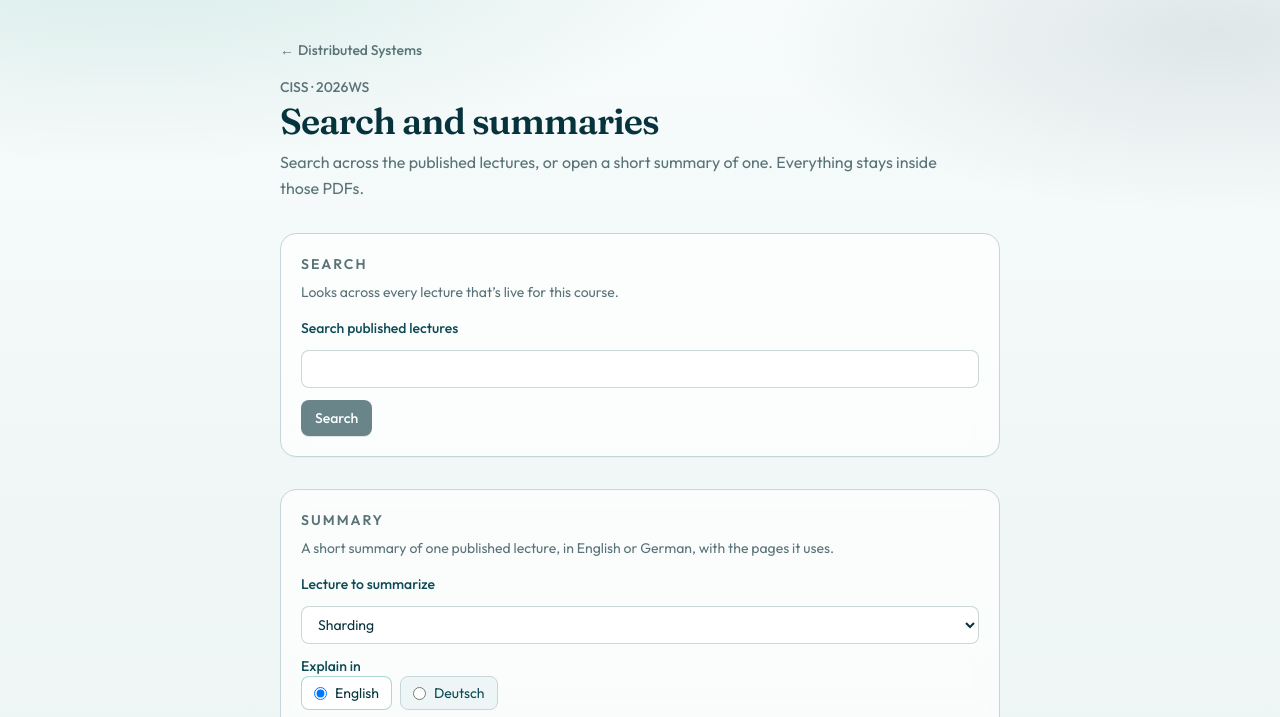
Test: course search page › shows a search hit and a lecture summary without another lecture
The image size is (1280, 717).
Expected: the heading "Search and summaries" is shown, [280,99,659,143]
In the field labelled "Search published lectures": (640, 369) [301,350,979,388], type "partitions data"
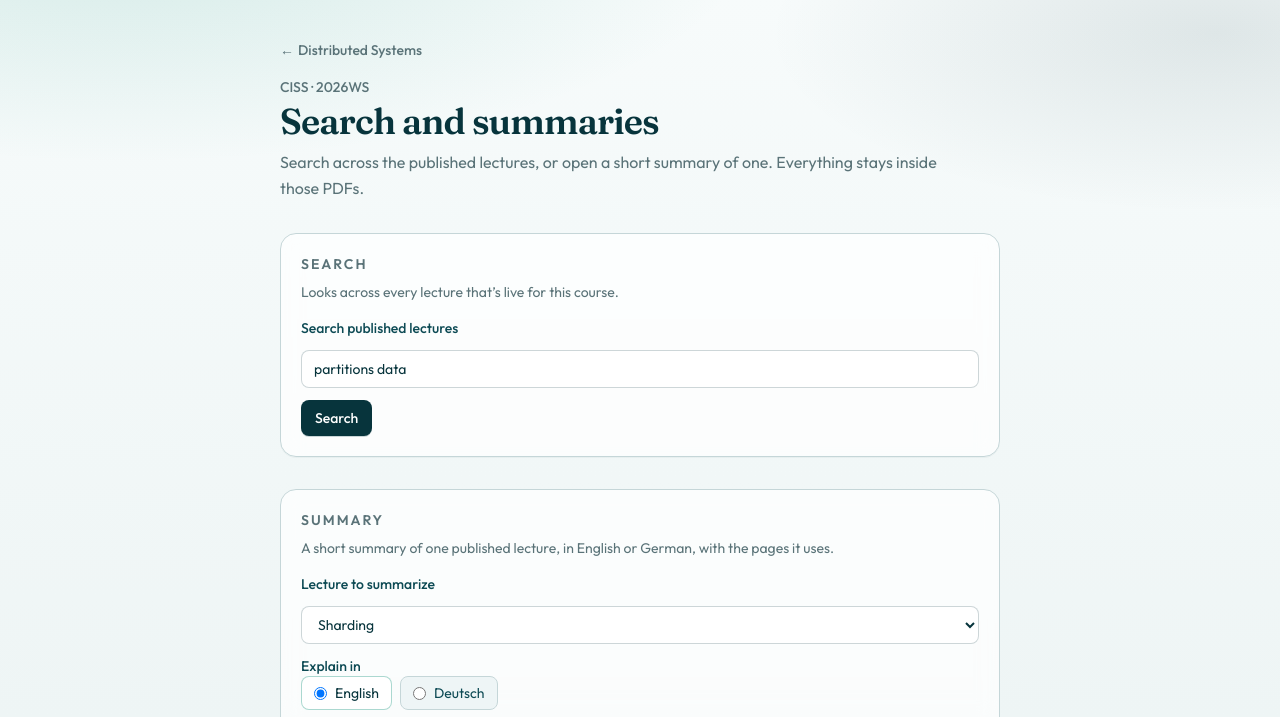
Click the button "Search": (337, 418) [301,400,372,436]
(page scrolled)
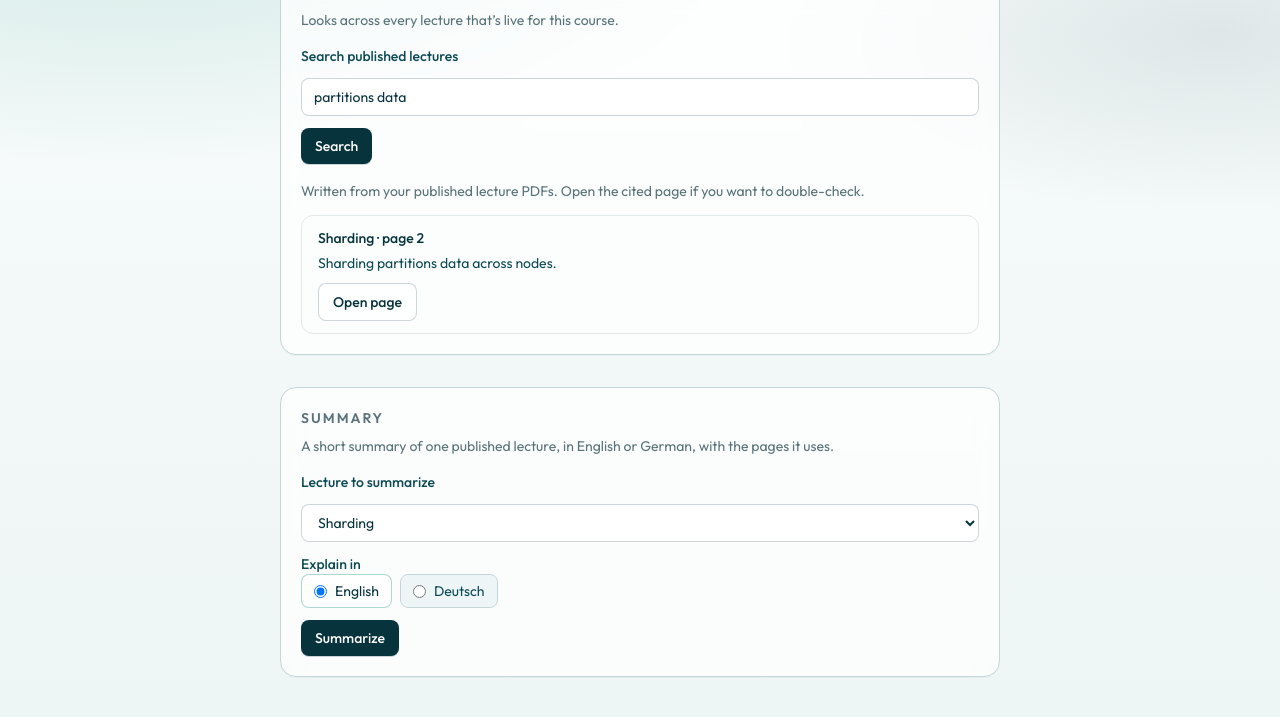
Expected: the text "Sharding partitions data across nodes." is shown, [318,254,557,272]
Expected: the text "Written from your published lecture PDFs" is shown, [301,182,865,200]
Click the radio button labelled "Deutsch": (419, 590) [413,584,426,597]
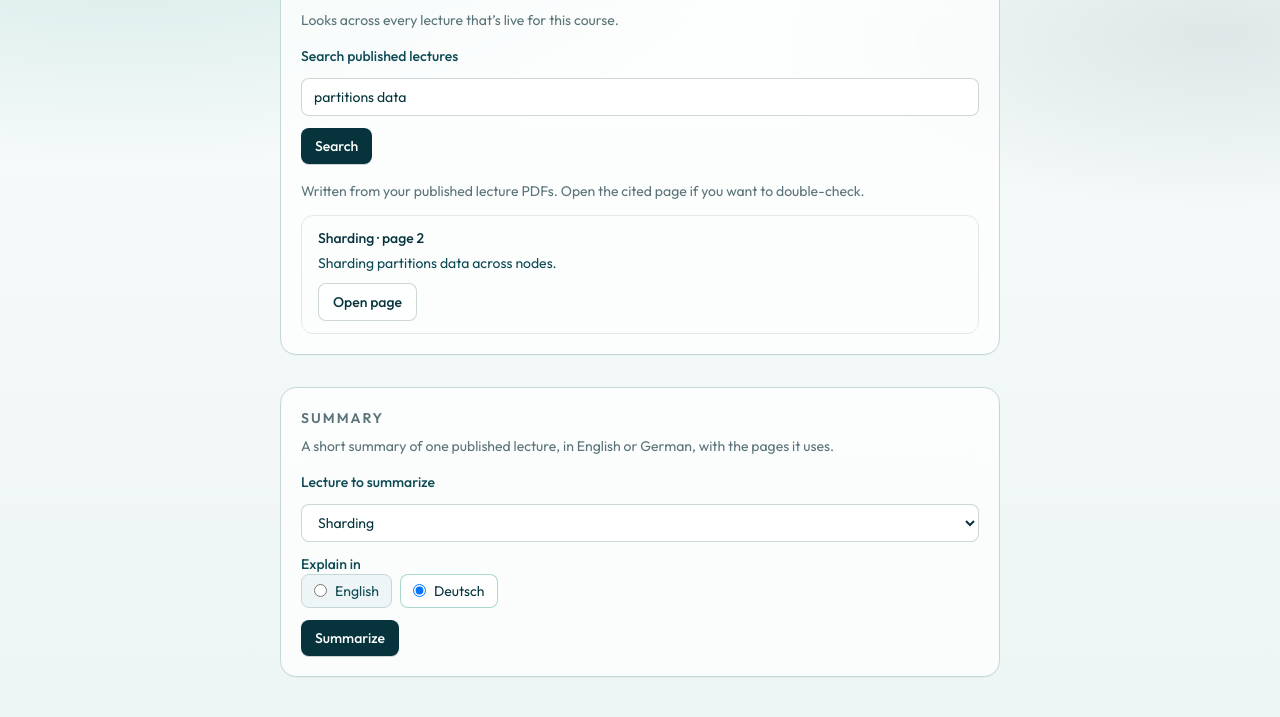
Click the button "Summarize": (350, 638) [301,620,399,656]
(page scrolled)
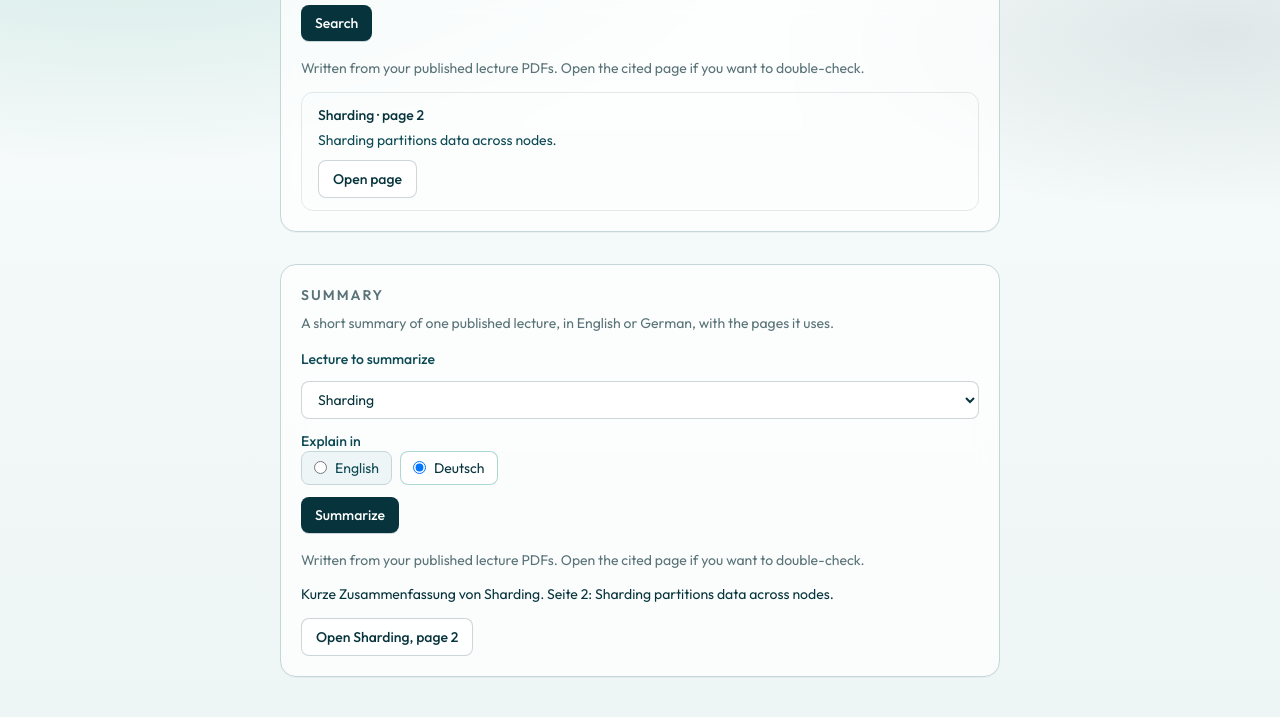
Expected: the text "Kurze Zusammenfassung von Sharding" is shown, [301,585,834,603]
